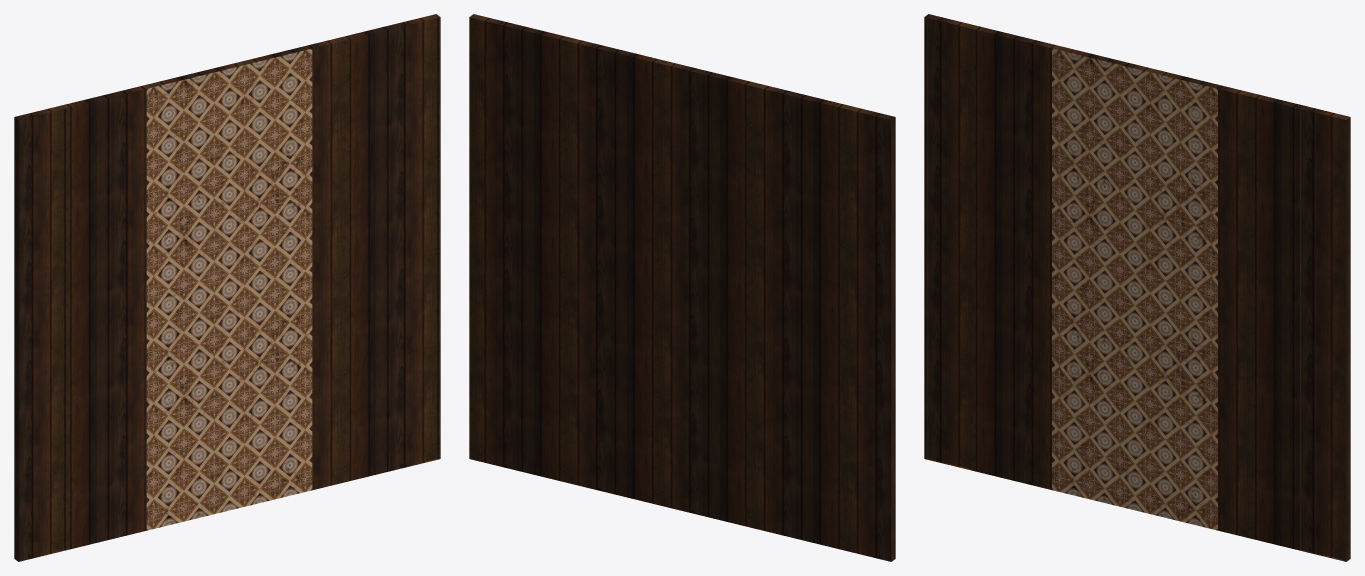
The model's file is Office-Wall-10.glb.
3 views of the same model, side by side, from view 1: azimuth 30°, elevation 25°; view 2: azimuth 150°, elevation 25°; view 3: azimuth 330°, elevation 25° (orthographic).
Parts seen in each view (by area): view 1: Wall; view 2: Wall; view 3: Wall.
Part boxes in pixels (box(x1,y1,x2,y2)): Wall: box(14, 14, 440, 561); Wall: box(469, 14, 895, 561); Wall: box(924, 14, 1350, 561).
Bounding box in the file's own units: 10 × 10 × 0.18.
2 materials, 2 textured.
